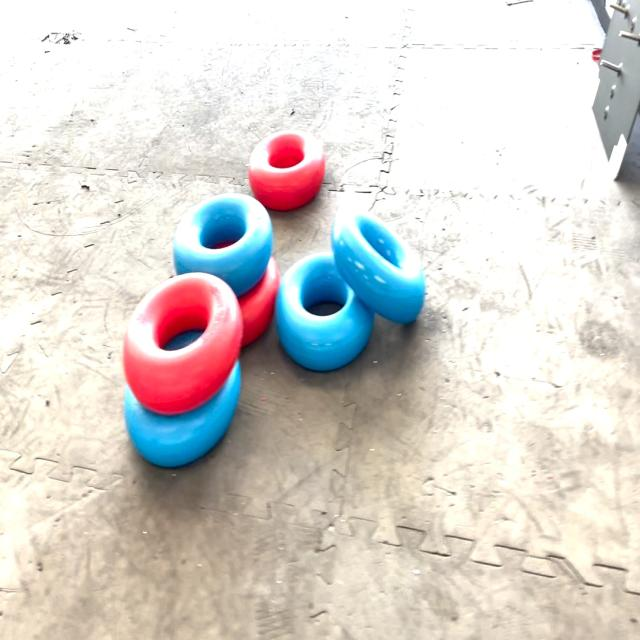Blue-Ring: (124, 360, 241, 467), (275, 253, 374, 371), (331, 213, 425, 323), (174, 193, 272, 298)
Red-Ring: (124, 273, 244, 416), (249, 131, 325, 211), (239, 258, 281, 347)
